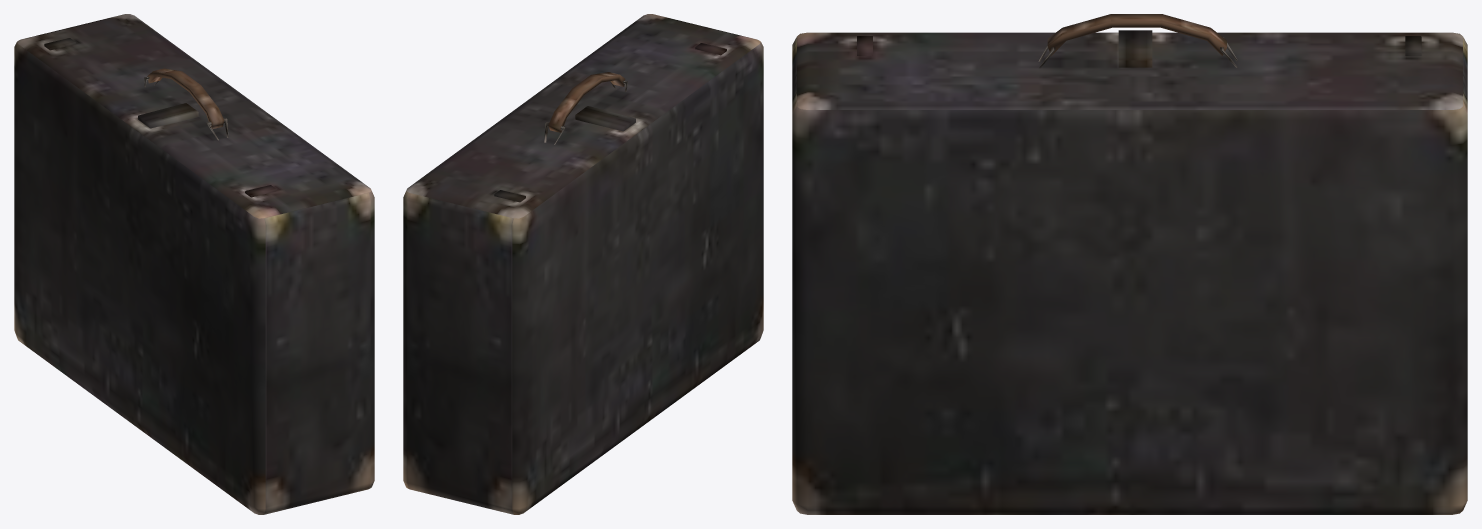
Rendered from suitcase_passenger_physics.glb.
The picture shows the model from 3 angles, left to right: view 1: azimuth 30°, elevation 25°; view 2: azimuth 150°, elevation 25°; view 3: azimuth 270°, elevation 25°; orthographic projection. The views are drawn at different scales.
Visible parts, largest first — view 1: 0_Furniture_DetailProps001a; view 2: 0_Furniture_DetailProps001a; view 3: 0_Furniture_DetailProps001a.
Boxes of the visible parts, <box> form: 0_Furniture_DetailProps001a: <box>14,14,374,514</box>; 0_Furniture_DetailProps001a: <box>403,14,763,514</box>; 0_Furniture_DetailProps001a: <box>792,14,1467,514</box>.
Size of the model in its own units: 0.1814 by 0.4783 by 0.6388.
1 material, 1 textured.
